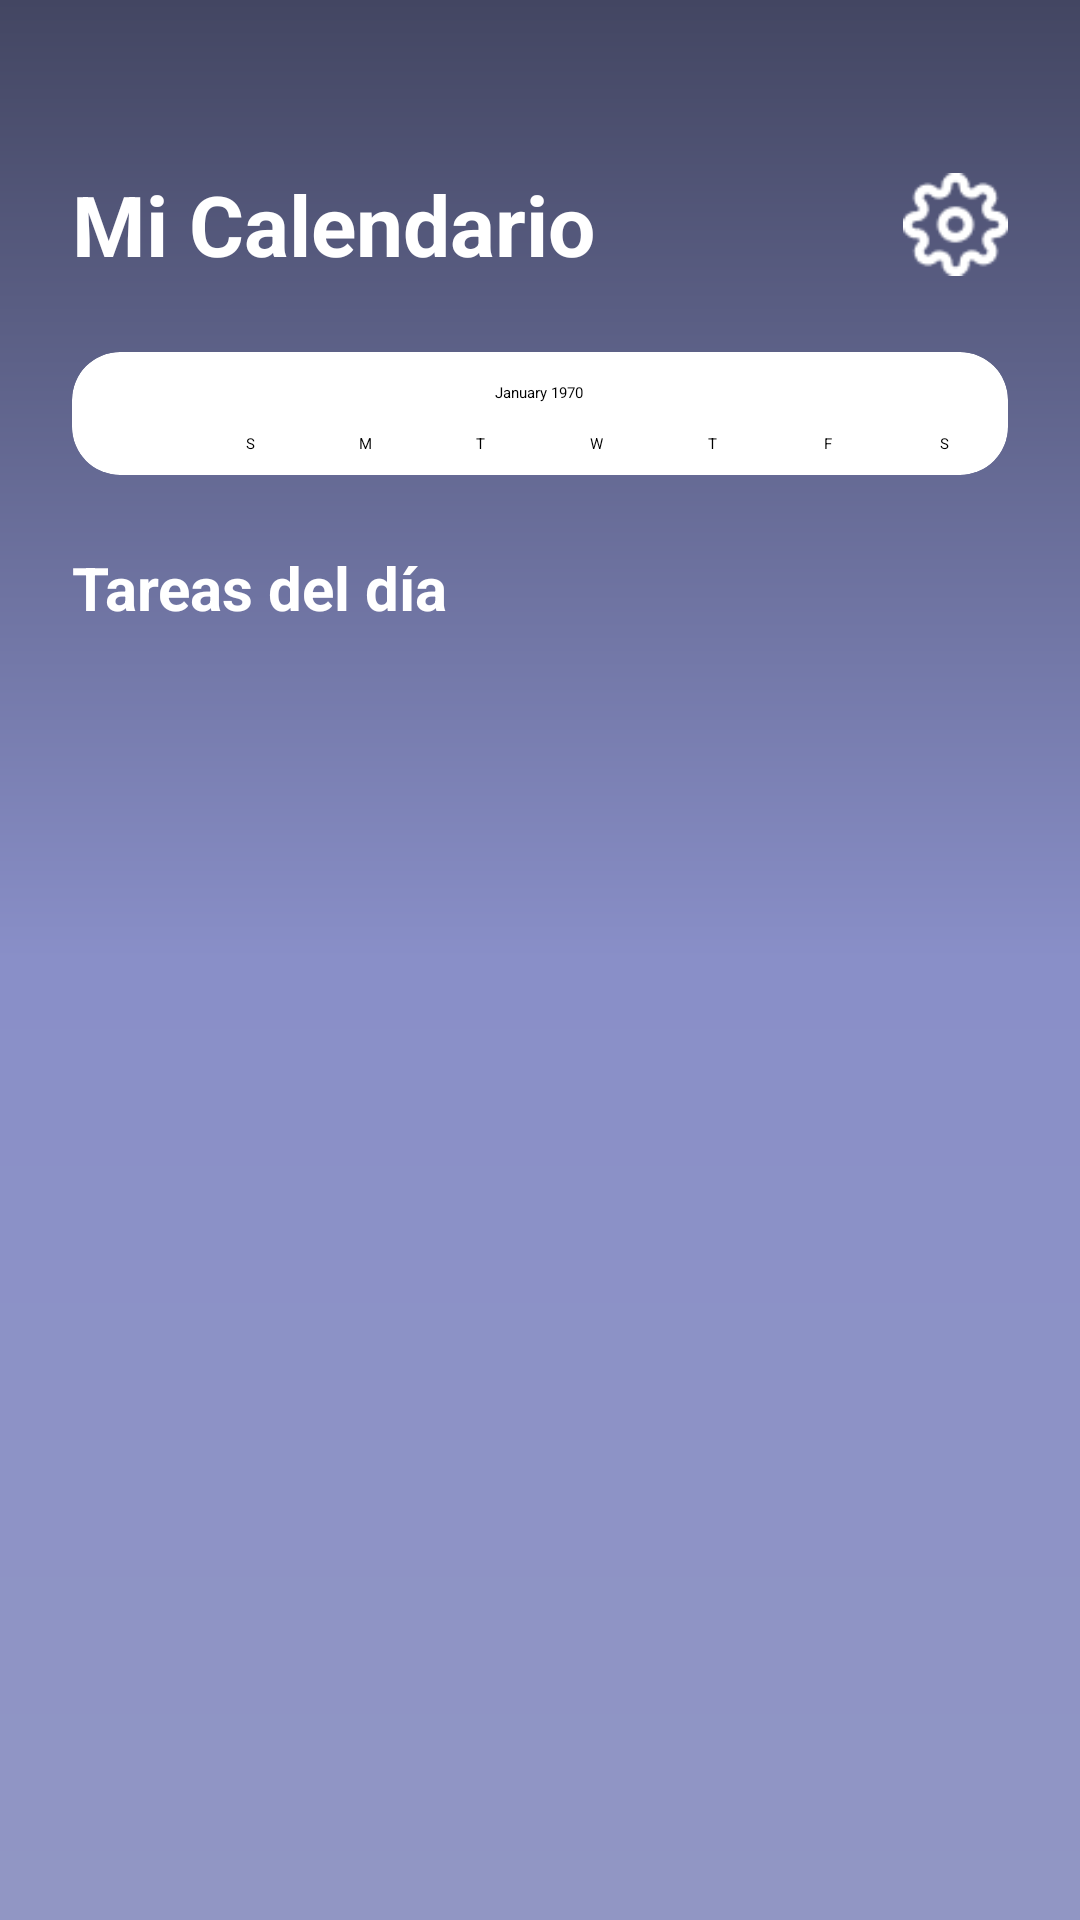

Named icons in this screenshot (1080 x 1920) and their centers, (x=x, y=y):
settings: (x=955, y=224)
